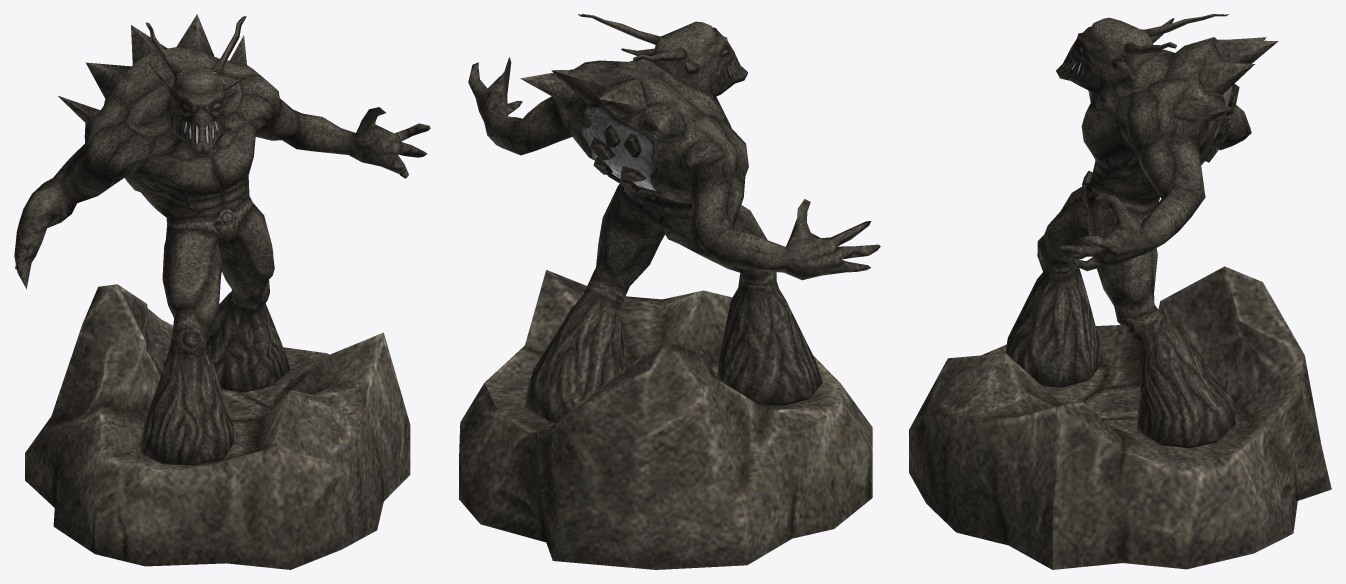
The model's file is solDemonStatue.dae.
3 views of the same model, side by side, from view 1: azimuth 30°, elevation 25°; view 2: azimuth 150°, elevation 25°; view 3: azimuth 270°, elevation 25° (orthographic). The views are drawn at different scales.
Parts seen in each view (by area): view 1: SunDemonStoneReduced2; view 2: SunDemonStoneReduced2; view 3: SunDemonStoneReduced2.
Boxes of the visible parts, left/top/right/bottom form: SunDemonStoneReduced2: left=14, top=14, right=430, bottom=569; SunDemonStoneReduced2: left=459, top=14, right=880, bottom=569; SunDemonStoneReduced2: left=909, top=14, right=1331, bottom=569.
Size of the model in its own units: 2.4 by 2.6 by 2.11.
Materials: 1 (1 with a texture image).
